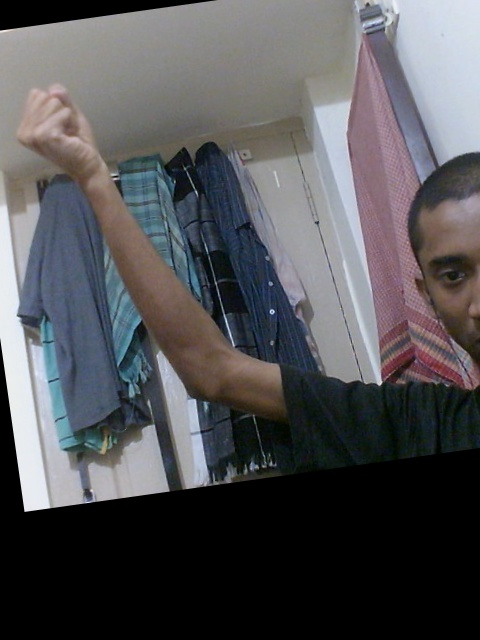hand: (14, 81, 115, 191)
